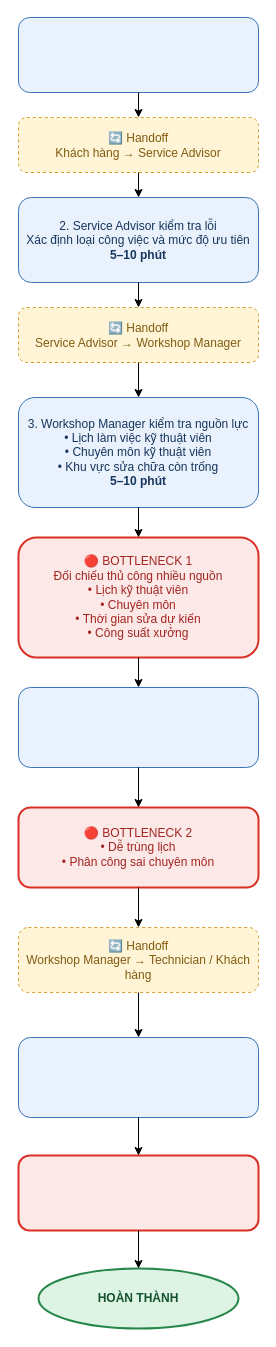
This 276x1347 diagram has some shape labels left out. The shapes that lost their labels are listed below. From the top down, each one's centre as x and y in pixels, then its label:
point 138,54: 1. Tiếp nhận yêu cầu sửa chữa và thông tin phương tiện 3–5 phút
point 138,727: 4. Phân công kỹ thuật viên, vị trí và thời gian sửa chữa 5–10 phút
point 138,1077: 5. Cập nhật lịch khi có thay đổi hoặc việc mới phát sinh 5–15 phút/lần
point 138,1192: 🔴 BOTTLENECK 3 Phải xếp lại lịch thủ công khi có xe khẩn cấp
